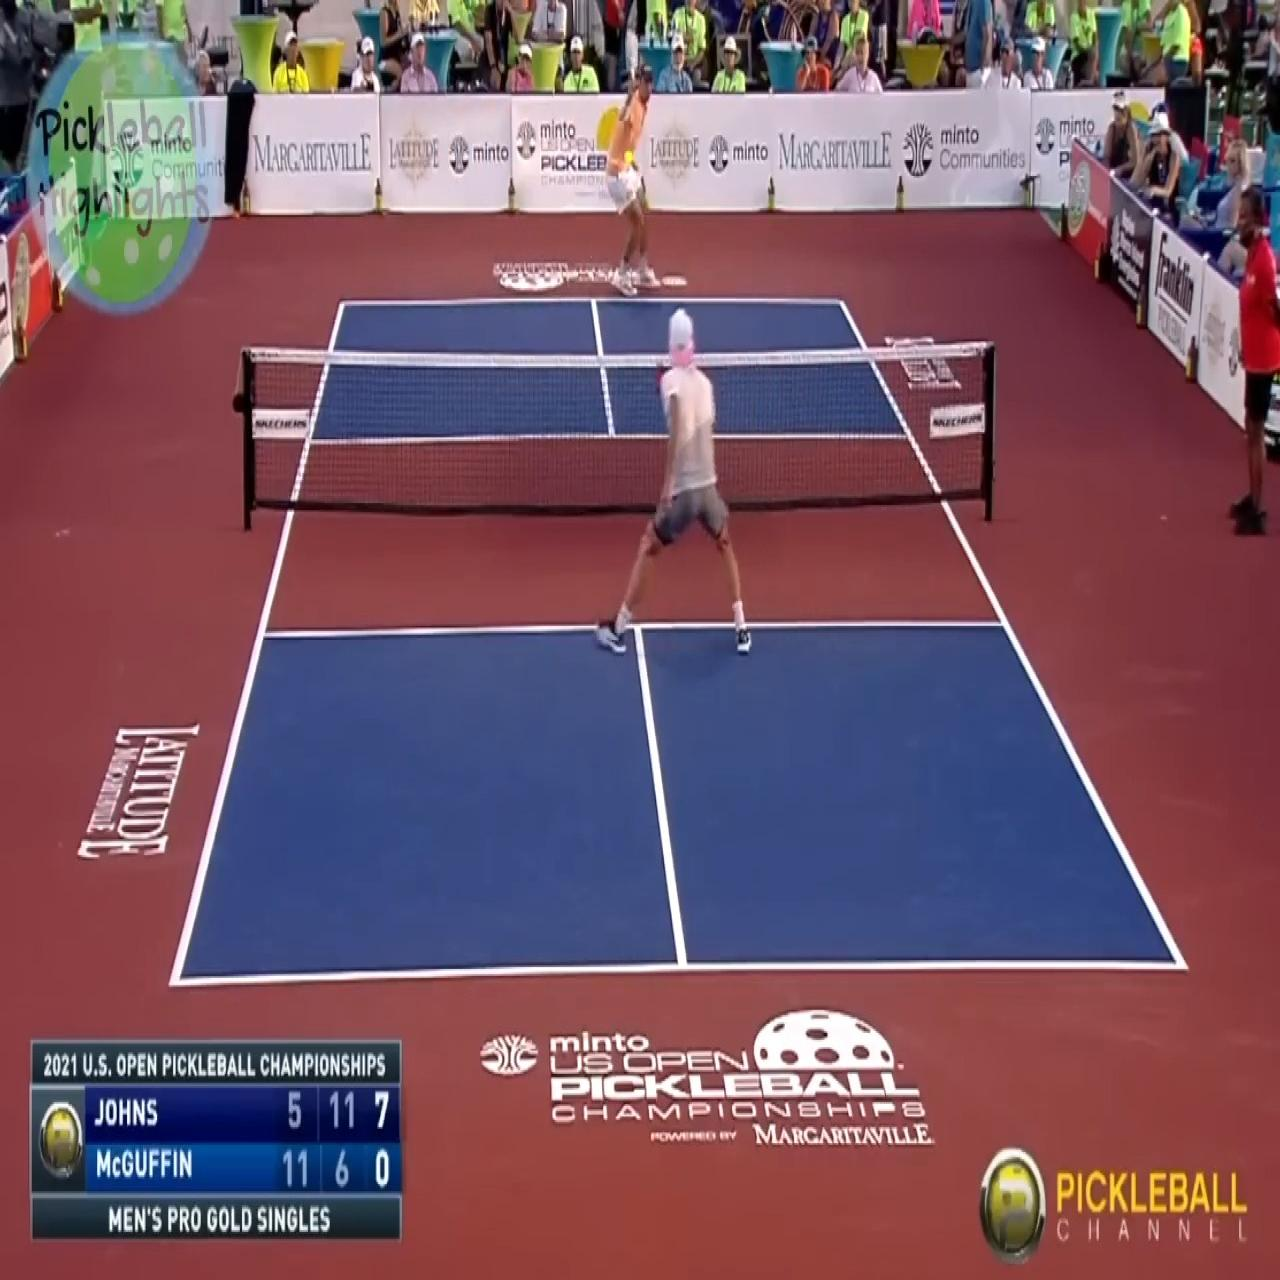pickleball: (624, 150, 634, 164)
